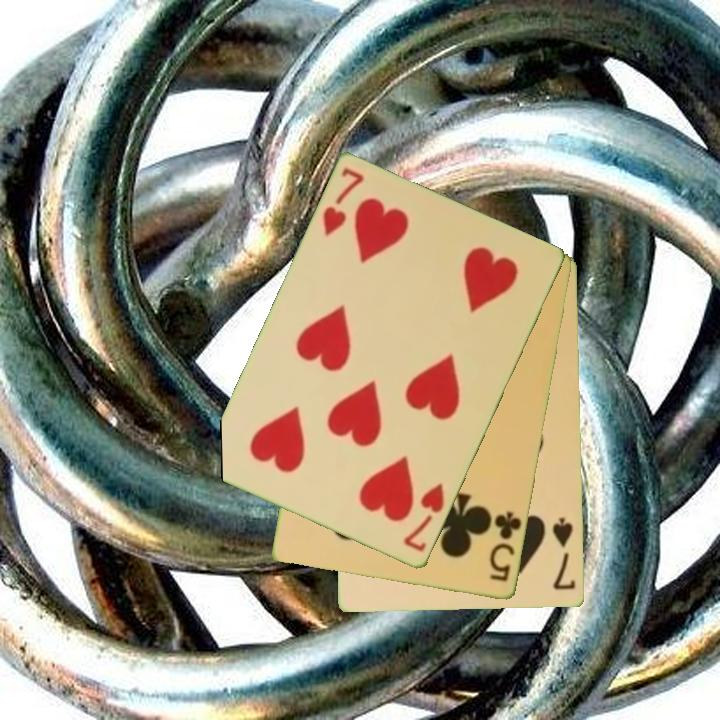5c: (486, 508, 525, 585)
7h: (319, 164, 368, 240), (400, 480, 448, 556)
7s: (550, 514, 579, 593)
